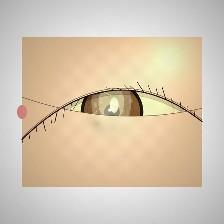corneal_ulcer: (81, 79, 141, 126)
